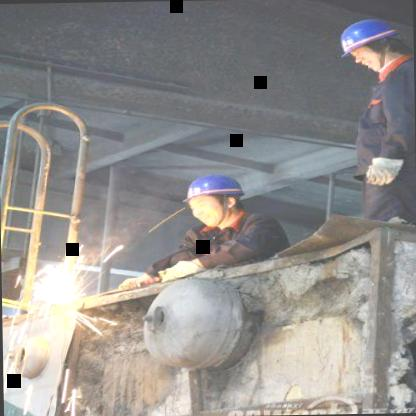helmet: (173, 168, 250, 228), (334, 16, 405, 74)
